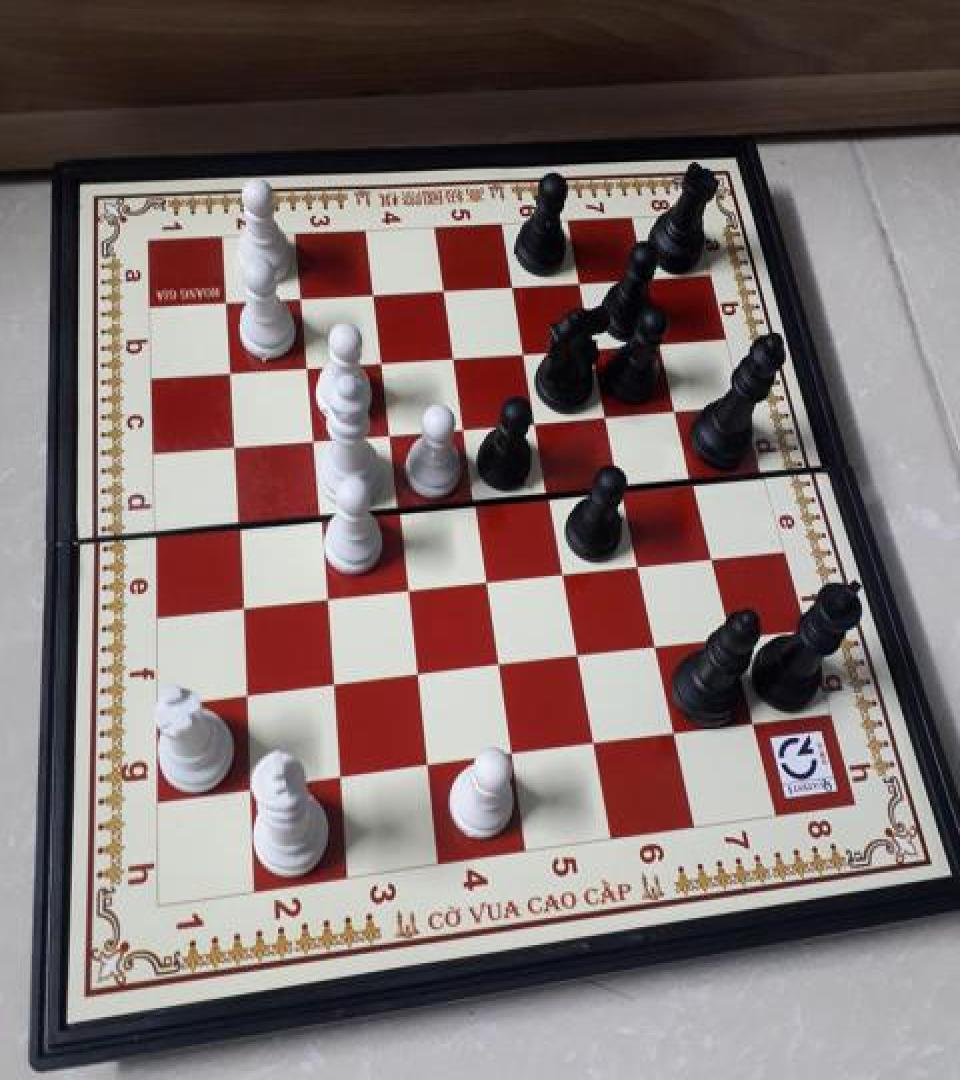xcorner: (633, 263, 663, 297), (566, 266, 596, 300), (498, 271, 528, 305), (357, 279, 387, 313), (210, 288, 240, 322), (648, 326, 678, 360), (580, 332, 610, 366), (510, 336, 540, 370), (438, 341, 468, 375), (365, 346, 395, 380), (290, 351, 320, 385), (213, 356, 243, 390), (664, 394, 694, 428), (594, 399, 624, 433), (522, 405, 552, 439), (448, 412, 478, 446), (373, 417, 403, 451), (296, 423, 326, 457), (217, 430, 247, 464), (609, 472, 639, 506), (535, 479, 565, 513), (459, 486, 489, 520), (221, 507, 251, 541), (699, 542, 729, 576), (625, 549, 655, 583), (549, 557, 579, 591), (471, 566, 501, 600), (391, 574, 421, 608), (309, 582, 339, 616), (225, 590, 255, 624), (718, 622, 748, 656), (642, 631, 672, 665), (564, 640, 594, 674), (483, 650, 513, 684), (401, 659, 431, 693), (316, 669, 346, 703), (229, 680, 259, 714), (739, 708, 769, 742), (660, 719, 690, 753), (579, 729, 609, 763), (496, 740, 526, 774), (324, 762, 354, 796), (234, 775, 264, 809), (428, 275, 458, 308), (284, 284, 314, 317), (681, 466, 711, 499), (382, 493, 412, 526), (302, 501, 332, 534), (411, 752, 441, 785)
